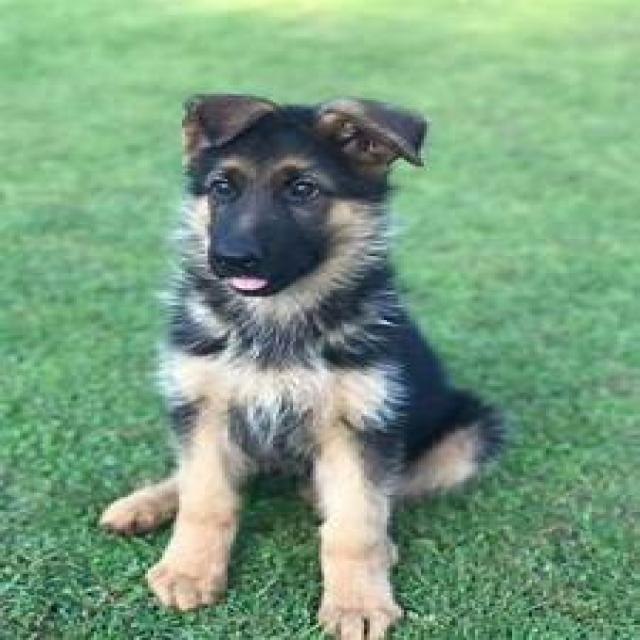dog: (100, 94, 506, 640)
